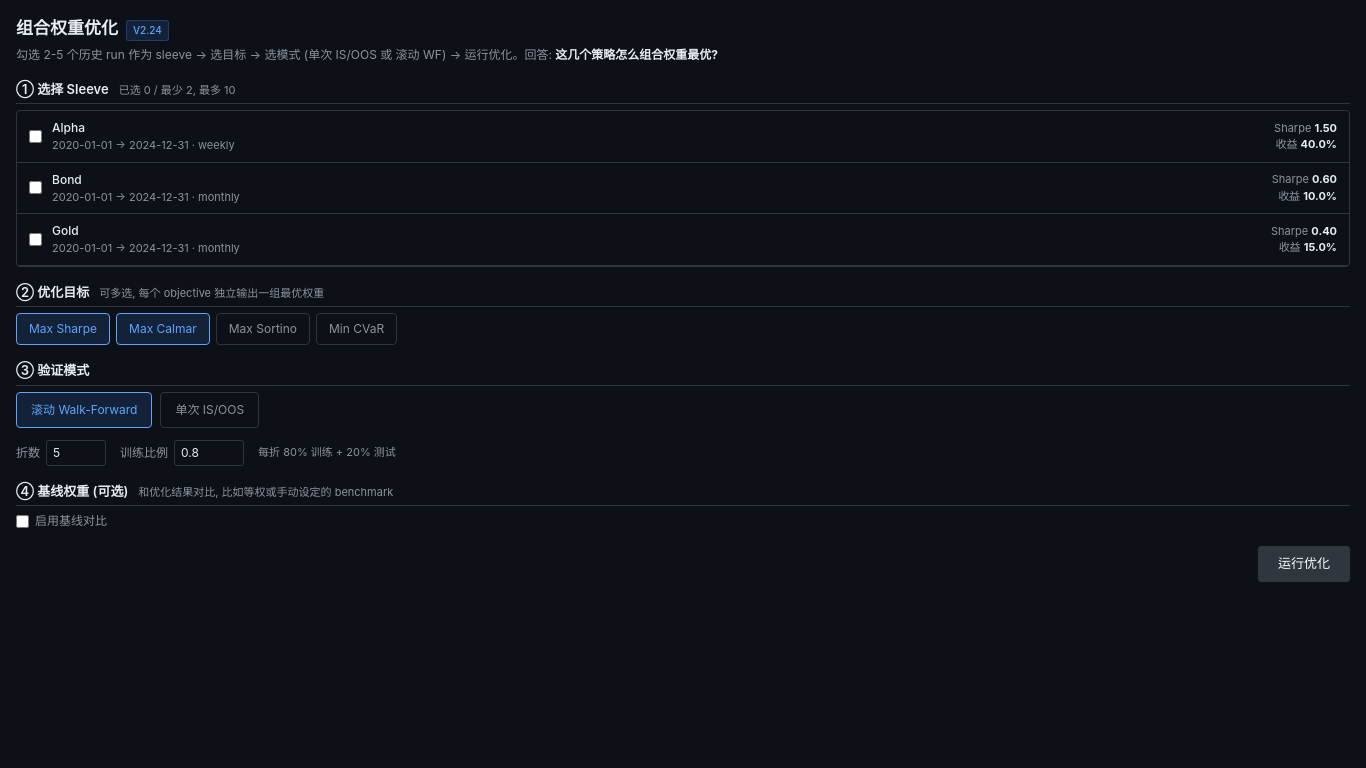
Test: SleeveOptimizationPanel - result rendering (discriminated union V2.24 S9) › nested mode renders nested_oos_results
This screenshot has width=1366, height=768.
Click the text "Alpha".
click(68, 128)  # box [52,120,85,135]
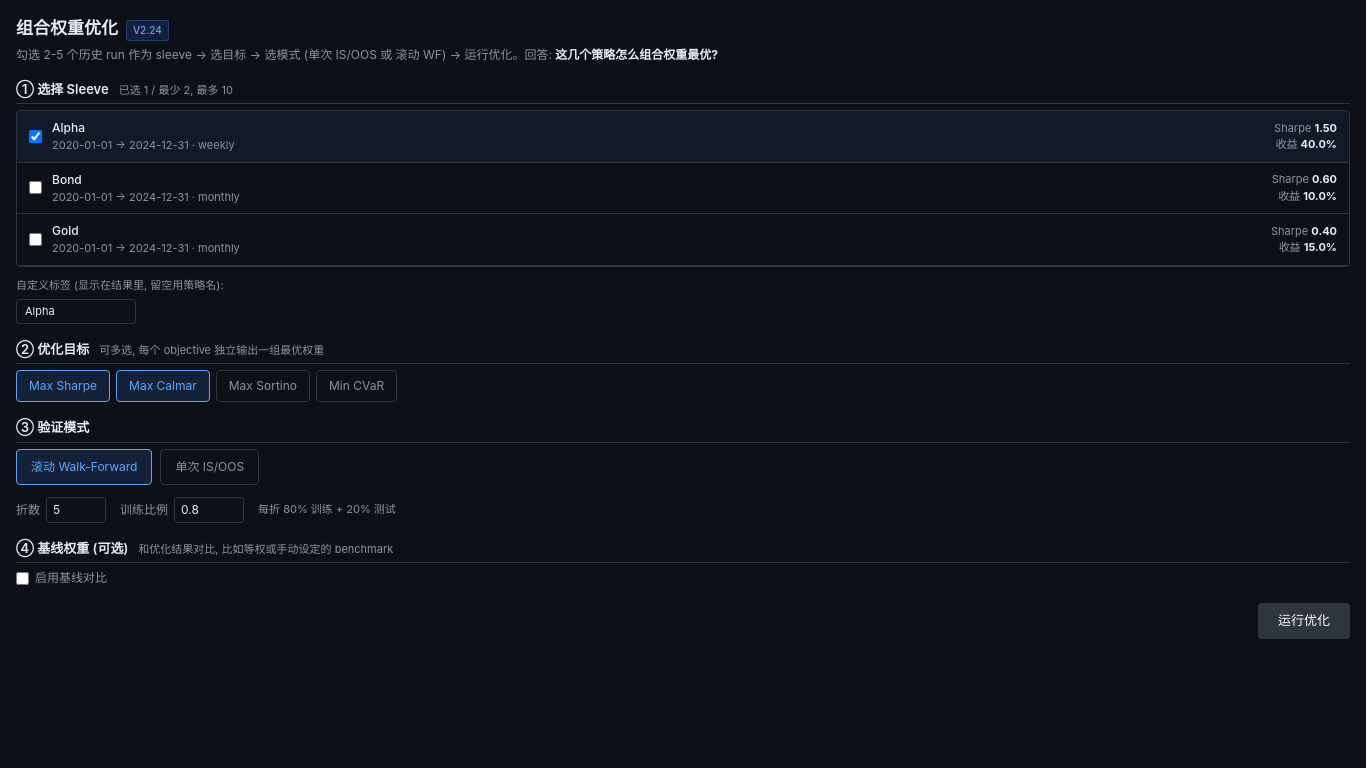
Click the text "Bond".
click(67, 179)  # box [52,172,82,186]
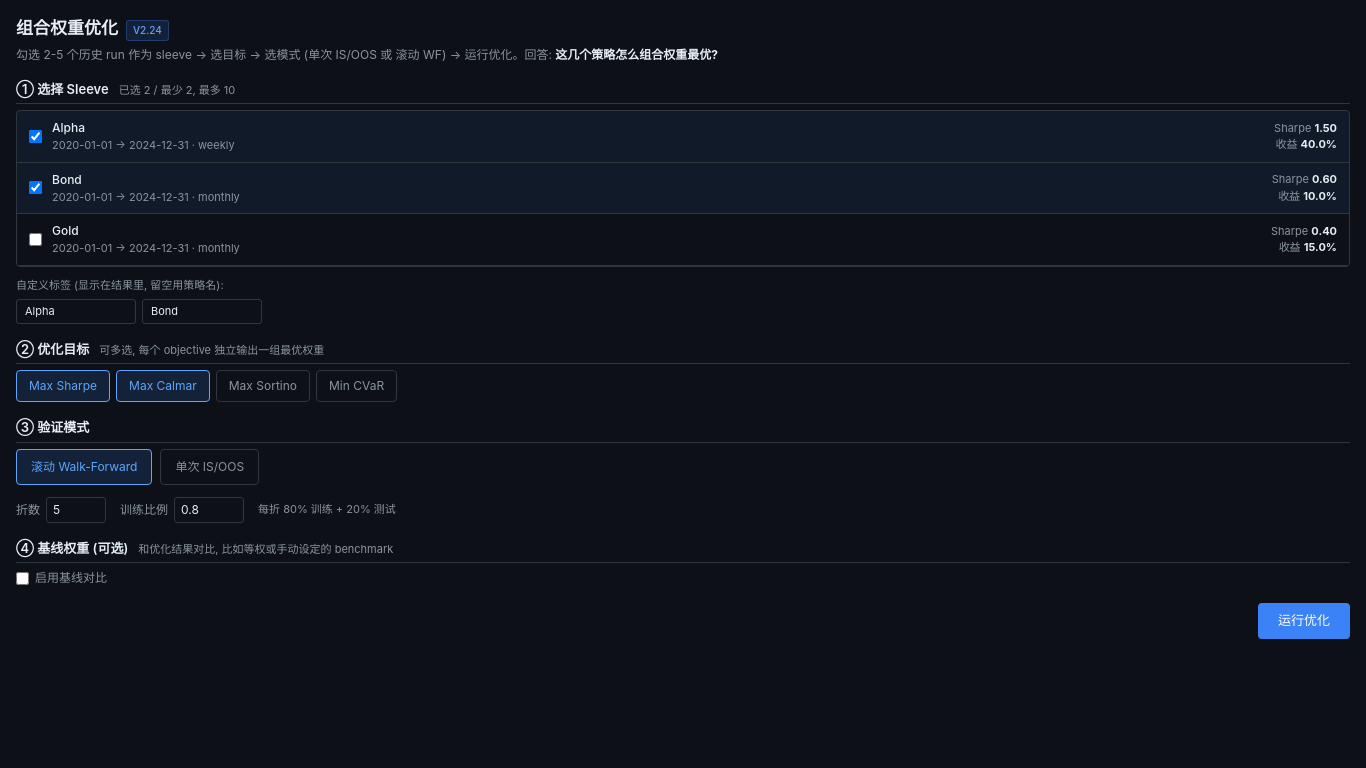
# Switch to nested
Click the button "单次 IS/OOS".
click(210, 466)  # box [160,448,259,484]
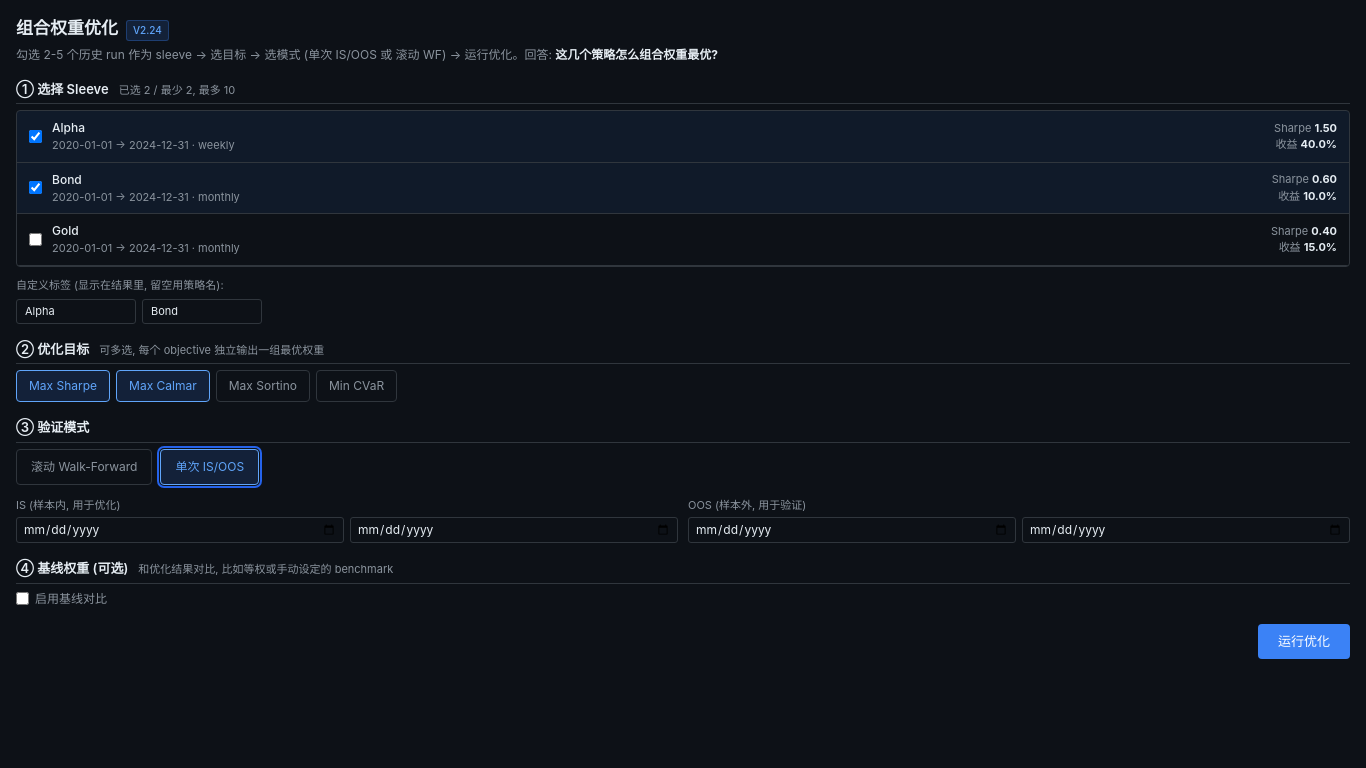
Type "2020-01-01" into the 1st date field.
click(180, 530); type("2020-01-01")  # box [16,517,344,543]
Type "2023-12-31" into the 2nd date field.
click(514, 530); type("2023-12-31")  # box [350,517,678,543]
Type "2024-01-01" into the 3rd date field.
click(852, 530); type("2024-01-01")  # box [688,517,1016,543]
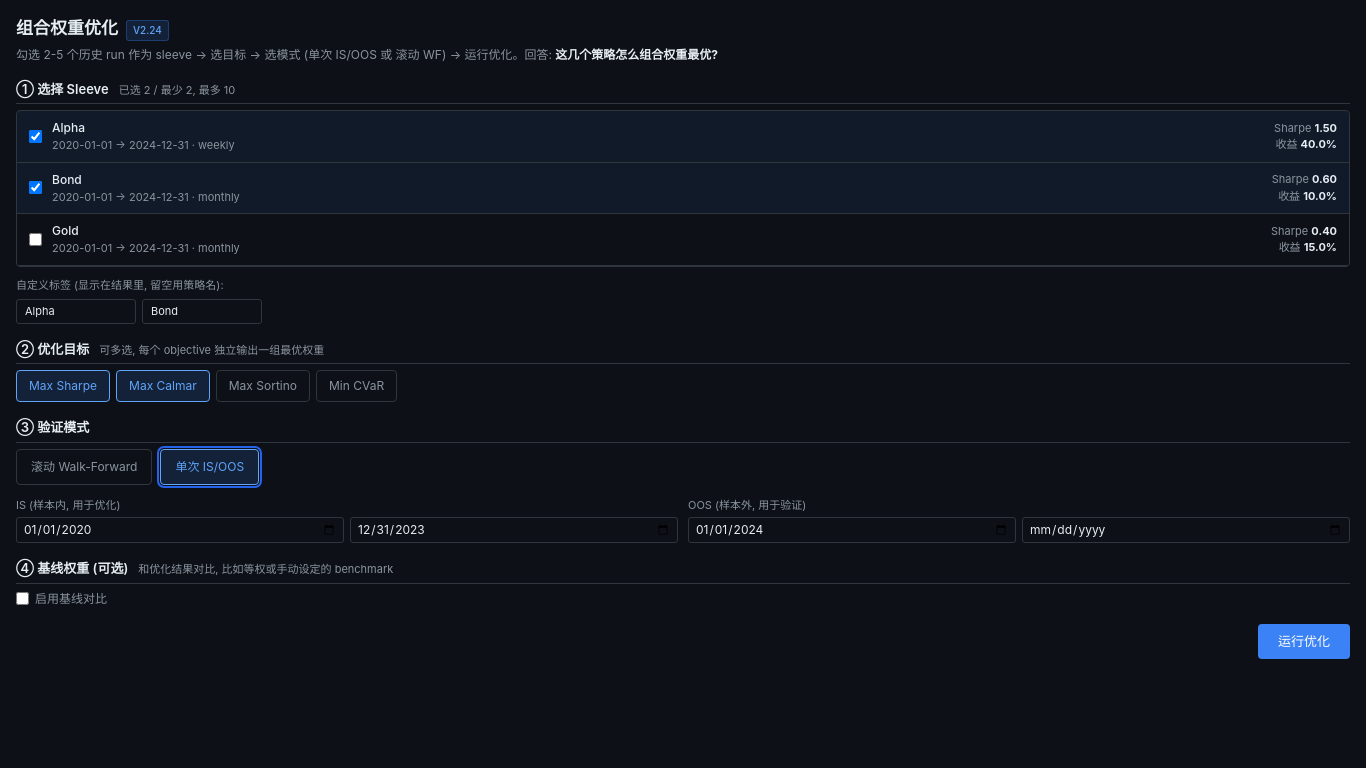
Type "2024-12-31" into the 4th date field.
click(1186, 530); type("2024-12-31")  # box [1022,517,1350,543]
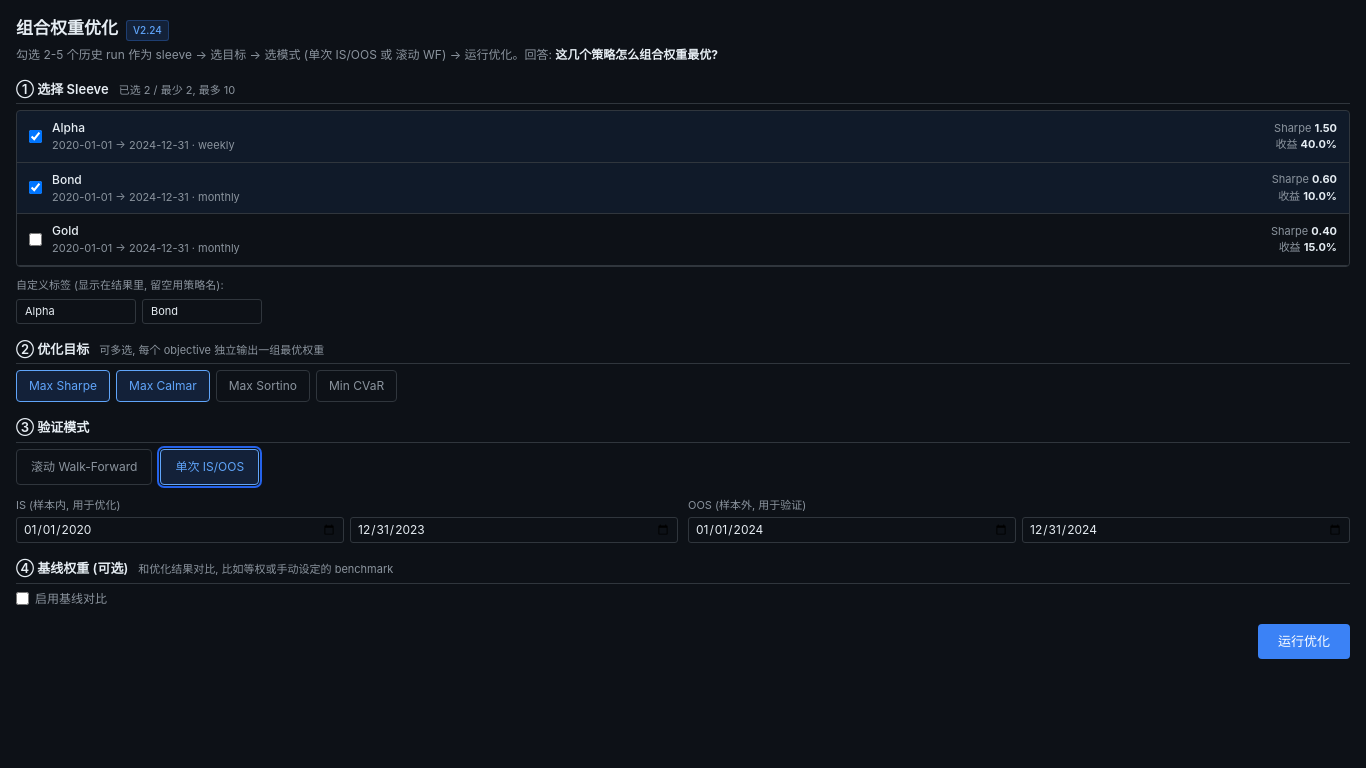
Click the button "运行优化".
click(1304, 641)  # box [1258,624,1350,659]
(page scrolled)
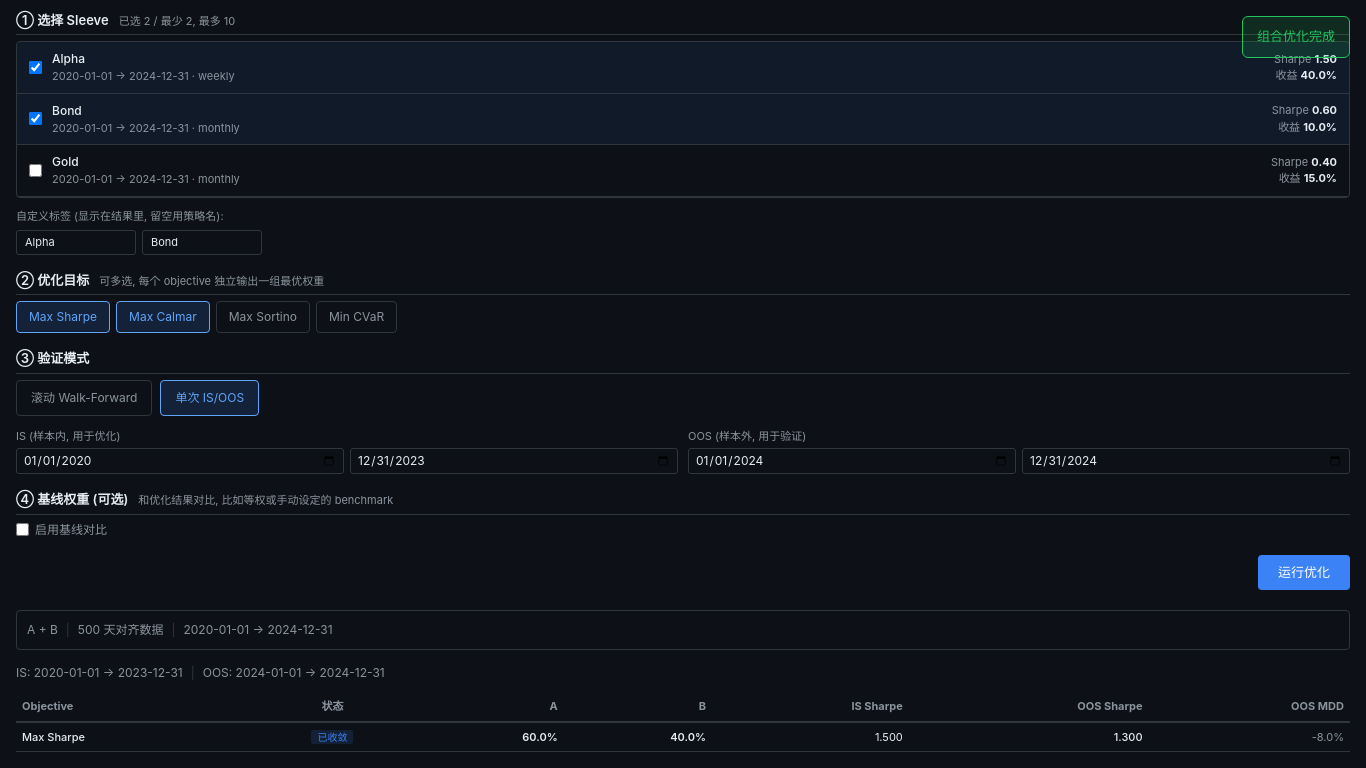
Result: the text "已收敛" is shown at [312,730,354,744]
